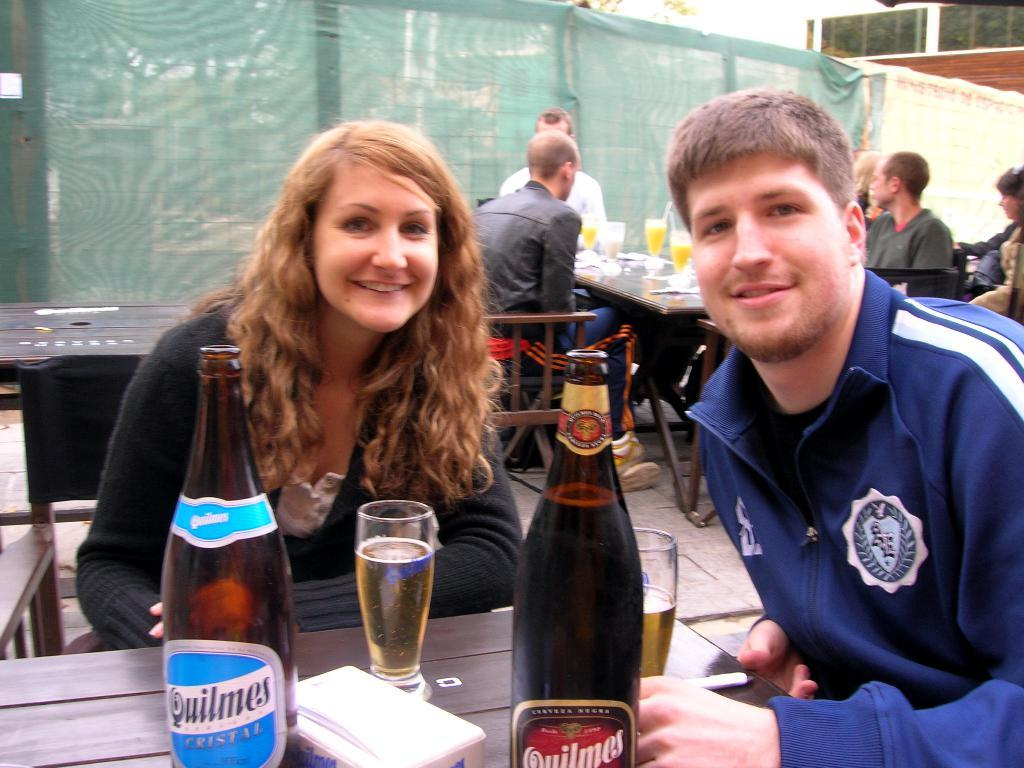Chair: (2, 351, 150, 660), (483, 310, 607, 468), (689, 311, 739, 525)
